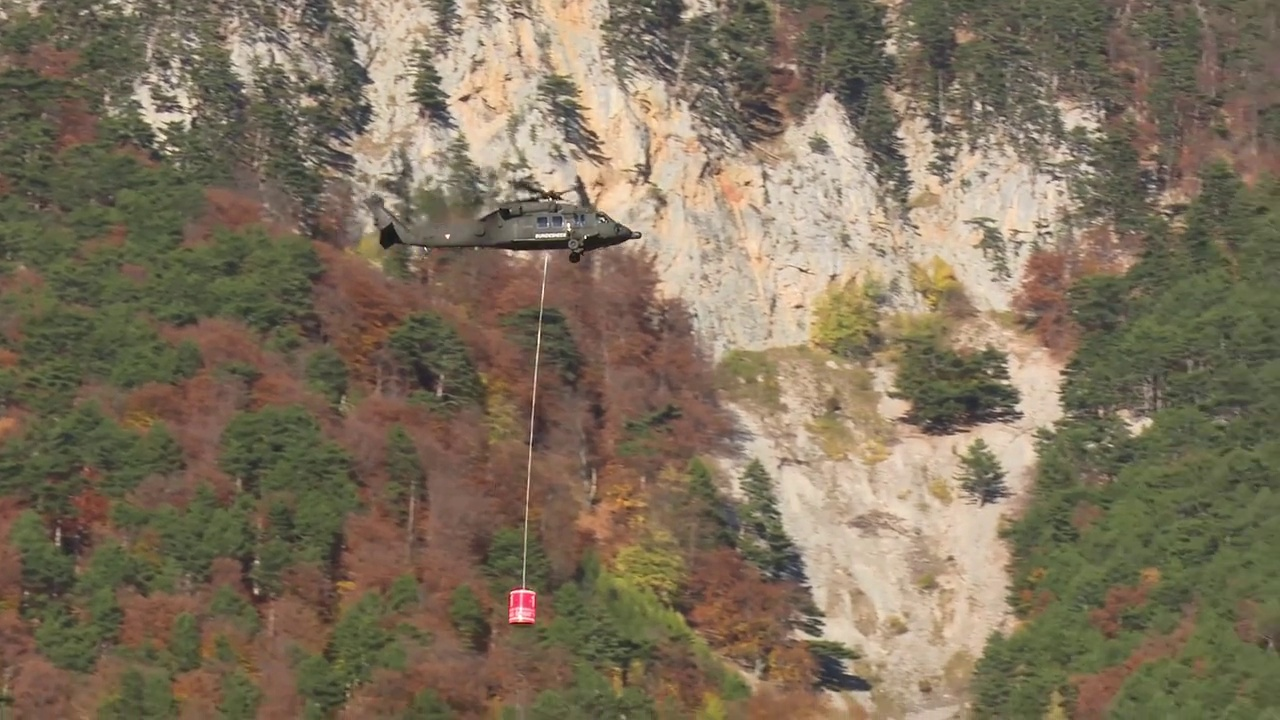heli: (370, 178, 642, 264)
